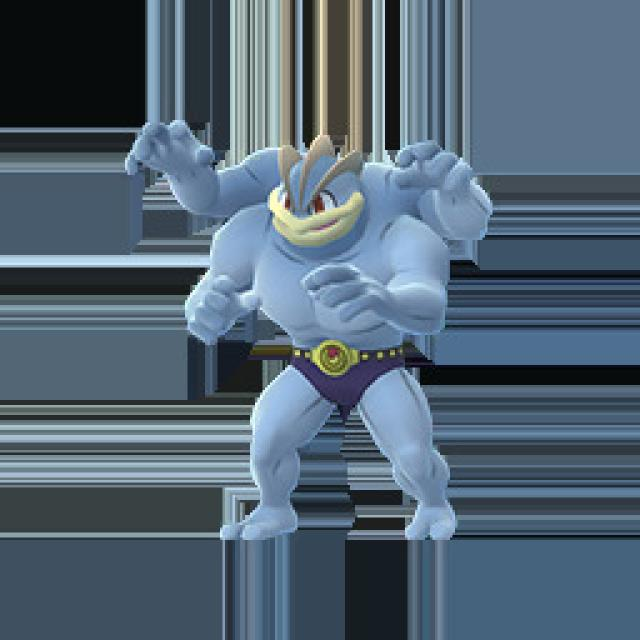Machamp: (101, 113, 534, 567)
